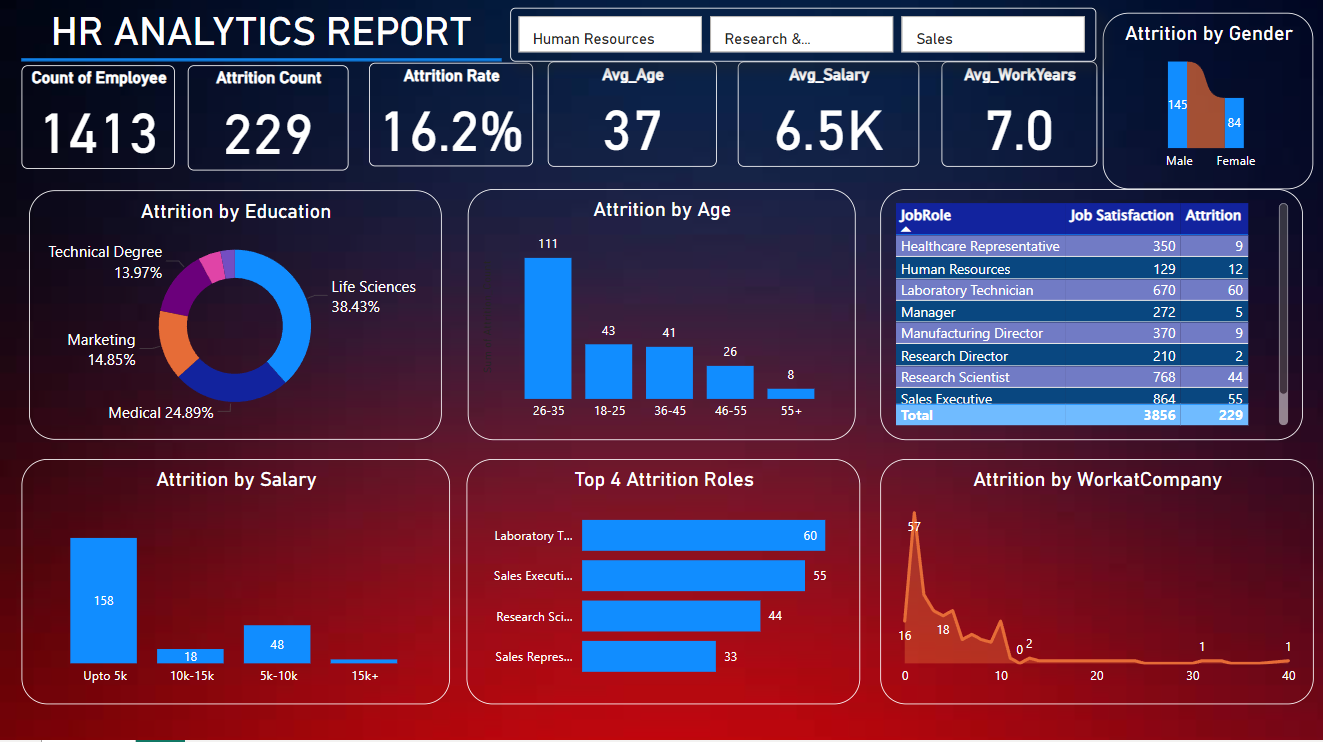

What the dashboard file says about the page in this screenshot:
{"tool":"powerbi","page":{"name":"Page 1","canvas":[1280,720],"ordinal":0},"visuals":[{"type":"card","title":"Count of Employee","fields":{"Values":["CountNonNull(HR_Analytics.EmpID)"]},"box":[21.7,68.3,148.3,100],"z":0},{"type":"card","title":"Attrition Count","fields":{"Values":["Sum(HR_Analytics.Attrition_Count)"]},"box":[181.7,68.3,155,101.7],"z":1000},{"type":"card","title":"Count of Employee","fields":{"Values":["HR_Analytics.AttritionRate"]},"box":[356.7,66.7,158.3,100],"z":2000},{"type":"card","title":"Avg_Age","fields":{"Values":["Avg(HR_Analytics.Age)"]},"box":[530,65,163.3,101.7],"z":3000},{"type":"card","title":"Avg_Salary","fields":{"Values":["Avg(HR_Analytics.MonthlyIncome)"]},"box":[713.3,65,175,101.7],"z":4000},{"type":"card","title":"Avg_WorkYears","fields":{"Values":["Avg(HR_Analytics.YearsAtCompany)"]},"box":[910,65,150,101.7],"z":5000},{"type":"donutChart","title":"Attrition by Education","fields":{"Y":["Sum(HR_Analytics.Attrition_Count)"],"Category":["HR_Analytics.EducationField"]},"box":[28.9,189,398.2,240.9],"z":6000},{"type":"clusteredColumnChart","title":"Attrition by Age","fields":{"Y":["Sum(HR_Analytics.Attrition_Count)"],"Category":["HR_Analytics.AgeGroup"]},"box":[452,188,374,242],"z":7000},{"type":"columnChart","title":"Attrition by Salary","fields":{"Y":["HR_Analytics.AttritionRate","Sum(HR_Analytics.Attrition_Count)"],"Category":["HR_Analytics.SalarySlab"]},"box":[21.7,448.3,413.3,236.7],"z":8000},{"type":"barChart","title":"Top 4 Attrition Roles","fields":{"Category":["HR_Analytics.JobRole"],"Y":["Sum(HR_Analytics.Attrition_Count)"]},"box":[451.7,448.3,380,236.7],"z":9000},{"type":"areaChart","title":"Attrition by WorkatCompany","fields":{"Category":["HR_Analytics.YearsAtCompany"],"Y":["Sum(HR_Analytics.Attrition_Count)"]},"box":[850,448.3,418.3,236.7],"z":10000},{"type":"tableEx","fields":{"Values":["HR_Analytics.JobRole","Sum(HR_Analytics.JobSatisfaction)","Sum(HR_Analytics.Attrition_Count)"]},"box":[850,188,408,242],"z":11000},{"type":"ribbonChart","title":"Attrition by Gender","fields":{"Category":["HR_Analytics.Gender"],"Y":["Sum(HR_Analytics.Attrition_Count)"]},"box":[1065,18.3,203.3,170],"z":12000},{"type":"advancedSlicerVisual","fields":{"Values":["HR_Analytics.Department"]},"box":[493.4,13.3,565.8,51.9],"z":13000},{"type":"shape","title":"HR ANALYTICS REPORT","box":[21.7,13.3,463.3,51.9],"z":13001}]}

Visuals, with their boxes in screenshot pixels (x1, y1, x2, y2), scaled from the page's 1280x720 canvas onto the 1323x742 screenshot:
"Count of Employee" card: [left=22, top=70, right=176, bottom=173]
"Attrition Count" card: [left=188, top=70, right=348, bottom=175]
"Count of Employee" card: [left=369, top=69, right=532, bottom=172]
"Avg_Age" card: [left=548, top=67, right=717, bottom=172]
"Avg_Salary" card: [left=737, top=67, right=918, bottom=172]
"Avg_WorkYears" card: [left=941, top=67, right=1096, bottom=172]
"Attrition by Education" donutChart: [left=30, top=195, right=441, bottom=443]
"Attrition by Age" clusteredColumnChart: [left=467, top=194, right=854, bottom=443]
"Attrition by Salary" columnChart: [left=22, top=462, right=450, bottom=706]
"Top 4 Attrition Roles" barChart: [left=467, top=462, right=860, bottom=706]
"Attrition by WorkatCompany" areaChart: [left=879, top=462, right=1311, bottom=706]
tableEx - HR_Analytics.JobRole x Sum(HR_Analytics.JobSatisfaction): [left=879, top=194, right=1300, bottom=443]
"Attrition by Gender" ribbonChart: [left=1101, top=19, right=1311, bottom=194]
advancedSlicerVisual - HR_Analytics.Department: [left=510, top=14, right=1095, bottom=67]
"HR ANALYTICS REPORT" shape: [left=22, top=14, right=501, bottom=67]
